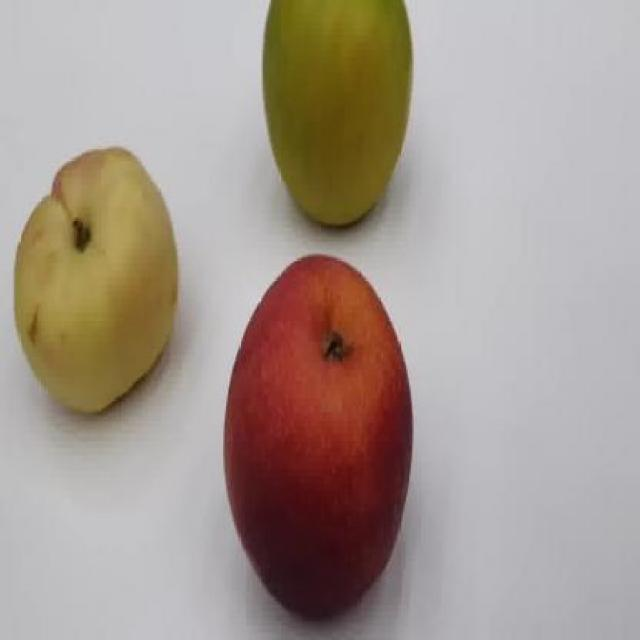Fresh Apple: (210, 248, 419, 622), (7, 139, 190, 419), (253, 0, 420, 238)
